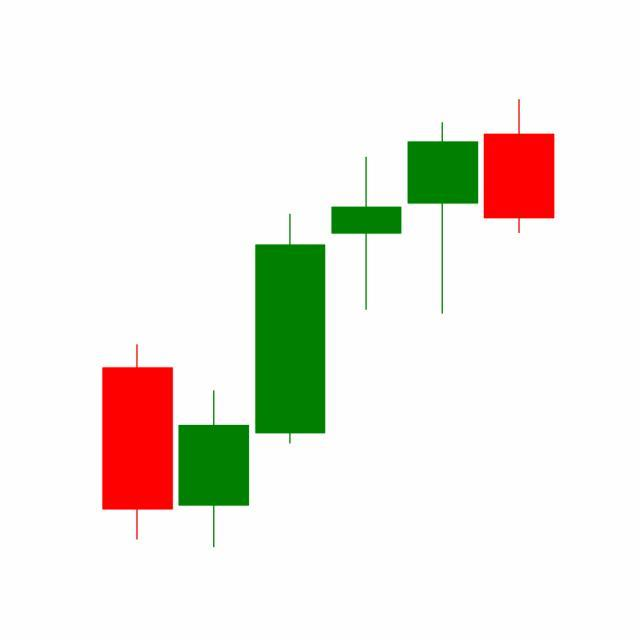Advance Block: (252, 120, 482, 449)
